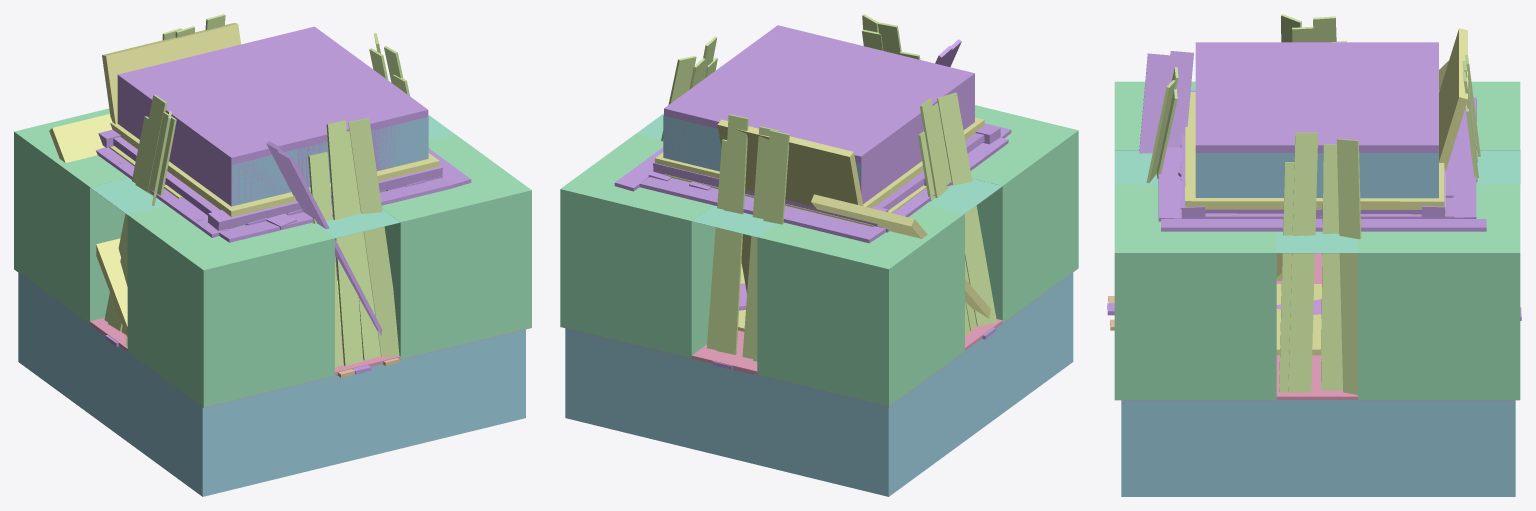
File: airraidshelter.glb
3 views of the same model, side by side, from view 1: azimuth 30°, elevation 25°; view 2: azimuth 150°, elevation 25°; view 3: azimuth 270°, elevation 25° (orthographic). The views are drawn at different scales.
Visible parts, largest first — view 1: S6|SM_Foundation_AirRaidShelter#0, S3|SM_HescoBarrier_Tall_Stage5_01a#4, S3|SM_HescoBarrier_Tall_Stage5_01a#7, S3|SM_HescoBarrier_Tall_Stage5_01a#6, S3|SM_HescoBarrier_Tall_Stage5_01a#5, S3|SM_HescoBarrier_Tall_Stage5_01a#10, S3|SM_HescoBarrier_Tall_Stage5_01a#11, S3|SM_HescoBarrier_Tall_Stage5_01a#0, S5|SM_HESCO_Stage5_01a#6, S4|SM_Wooden_Plank_03b#10, S4|SM_Wooden_Plank_03b#8, S5|SM_HESCO_Stage5_01a#8 (+27 smaller); view 2: S6|SM_Foundation_AirRaidShelter#0, S3|SM_HescoBarrier_Tall_Stage5_01a#0, S3|SM_HescoBarrier_Tall_Stage5_01a#2, S3|SM_HescoBarrier_Tall_Stage5_01a#3, S3|SM_HescoBarrier_Tall_Stage5_01a#1, S3|SM_HescoBarrier_Tall_Stage5_01a#11, S3|SM_HescoBarrier_Tall_Stage5_01a#4, S3|SM_HescoBarrier_Tall_Stage5_01a#10, S3|SM_AirRaidShelter_Sheet_Stage_01a#0, S4|SM_Wooden_Plank_03b#4, S5|SM_HESCO_Stage5_01a#8, S4|SM_Wooden_Plank_03b#11 (+27 smaller); view 3: S6|SM_Foundation_AirRaidShelter#0, S3|SM_HescoBarrier_Tall_Stage5_01a#6, S3|SM_HescoBarrier_Tall_Stage5_01a#3, S3|SM_HescoBarrier_Tall_Stage5_01a#9, S3|SM_HescoBarrier_Tall_Stage5_01a#8, S4|SM_Wooden_Plank_03b#2, S4|SM_Wooden_Plank_03b#6, S5|SM_AirRaidShelter_Stage5_01b#0, S4|SM_Wooden_Plank_03b#1, S4|SM_HESCO_Stage3_01a#2, S4|SM_HESCO_Stage3_01a#1, S5|SM_HESCO_Stage5_01a#2 (+31 smaller).
Part boxes in pixels (bbox=[...]): S6|SM_Foundation_AirRaidShelter#0: bbox=[18, 273, 525, 496]; S3|SM_HescoBarrier_Tall_Stage5_01a#4: bbox=[165, 228, 269, 407]; S3|SM_HescoBarrier_Tall_Stage5_01a#7: bbox=[381, 190, 466, 359]; S3|SM_HescoBarrier_Tall_Stage5_01a#6: bbox=[445, 162, 531, 343]; S3|SM_HescoBarrier_Tall_Stage5_01a#5: bbox=[235, 222, 334, 391]; S3|SM_HescoBarrier_Tall_Stage5_01a#10: bbox=[52, 155, 128, 324]; S3|SM_HescoBarrier_Tall_Stage5_01a#11: bbox=[127, 205, 204, 379]; S3|SM_HescoBarrier_Tall_Stage5_01a#0: bbox=[14, 115, 84, 296]; S5|SM_HESCO_Stage5_01a#6: bbox=[193, 114, 296, 206]; S4|SM_Wooden_Plank_03b#10: bbox=[348, 118, 399, 357]; S4|SM_Wooden_Plank_03b#8: bbox=[326, 120, 363, 365]; S5|SM_HESCO_Stage5_01a#8: bbox=[117, 58, 220, 139]; S6|SM_Foundation_AirRaidShelter#0: bbox=[565, 272, 1073, 496]; S3|SM_HescoBarrier_Tall_Stage5_01a#0: bbox=[823, 232, 926, 406]; S3|SM_HescoBarrier_Tall_Stage5_01a#2: bbox=[626, 189, 715, 358]; S3|SM_HescoBarrier_Tall_Stage5_01a#3: bbox=[560, 161, 647, 342]; S3|SM_HescoBarrier_Tall_Stage5_01a#1: bbox=[757, 222, 844, 390]; S3|SM_HescoBarrier_Tall_Stage5_01a#11: bbox=[970, 148, 1040, 323]; S3|SM_HescoBarrier_Tall_Stage5_01a#4: bbox=[997, 114, 1078, 295]; S3|SM_HescoBarrier_Tall_Stage5_01a#10: bbox=[889, 204, 964, 378]; S3|SM_AirRaidShelter_Sheet_Stage_01a#0: bbox=[717, 119, 863, 292]; S4|SM_Wooden_Plank_03b#4: bbox=[716, 114, 748, 354]; S5|SM_HESCO_Stage5_01a#8: bbox=[799, 113, 898, 203]; S4|SM_Wooden_Plank_03b#11: bbox=[937, 92, 996, 326]; S6|SM_Foundation_AirRaidShelter#0: bbox=[1121, 400, 1515, 496]; S3|SM_HescoBarrier_Tall_Stage5_01a#6: bbox=[1114, 218, 1195, 399]; S3|SM_HescoBarrier_Tall_Stage5_01a#3: bbox=[1439, 218, 1520, 399]; S3|SM_HescoBarrier_Tall_Stage5_01a#9: bbox=[1195, 231, 1276, 399]; S3|SM_HescoBarrier_Tall_Stage5_01a#8: bbox=[1358, 231, 1438, 399]; S4|SM_Wooden_Plank_03b#2: bbox=[1288, 132, 1318, 392]; S4|SM_Wooden_Plank_03b#6: bbox=[1336, 138, 1361, 394]; S5|SM_AirRaidShelter_Stage5_01b#0: bbox=[1114, 150, 1519, 253]; S4|SM_Wooden_Plank_03b#1: bbox=[1321, 144, 1342, 390]; S4|SM_HESCO_Stage3_01a#2: bbox=[1195, 153, 1276, 197]; S4|SM_HESCO_Stage3_01a#1: bbox=[1359, 153, 1438, 198]; S5|SM_HESCO_Stage5_01a#2: bbox=[1195, 111, 1276, 152].
Size of the model in its own units: 7.56 by 6.99 by 7.66.
